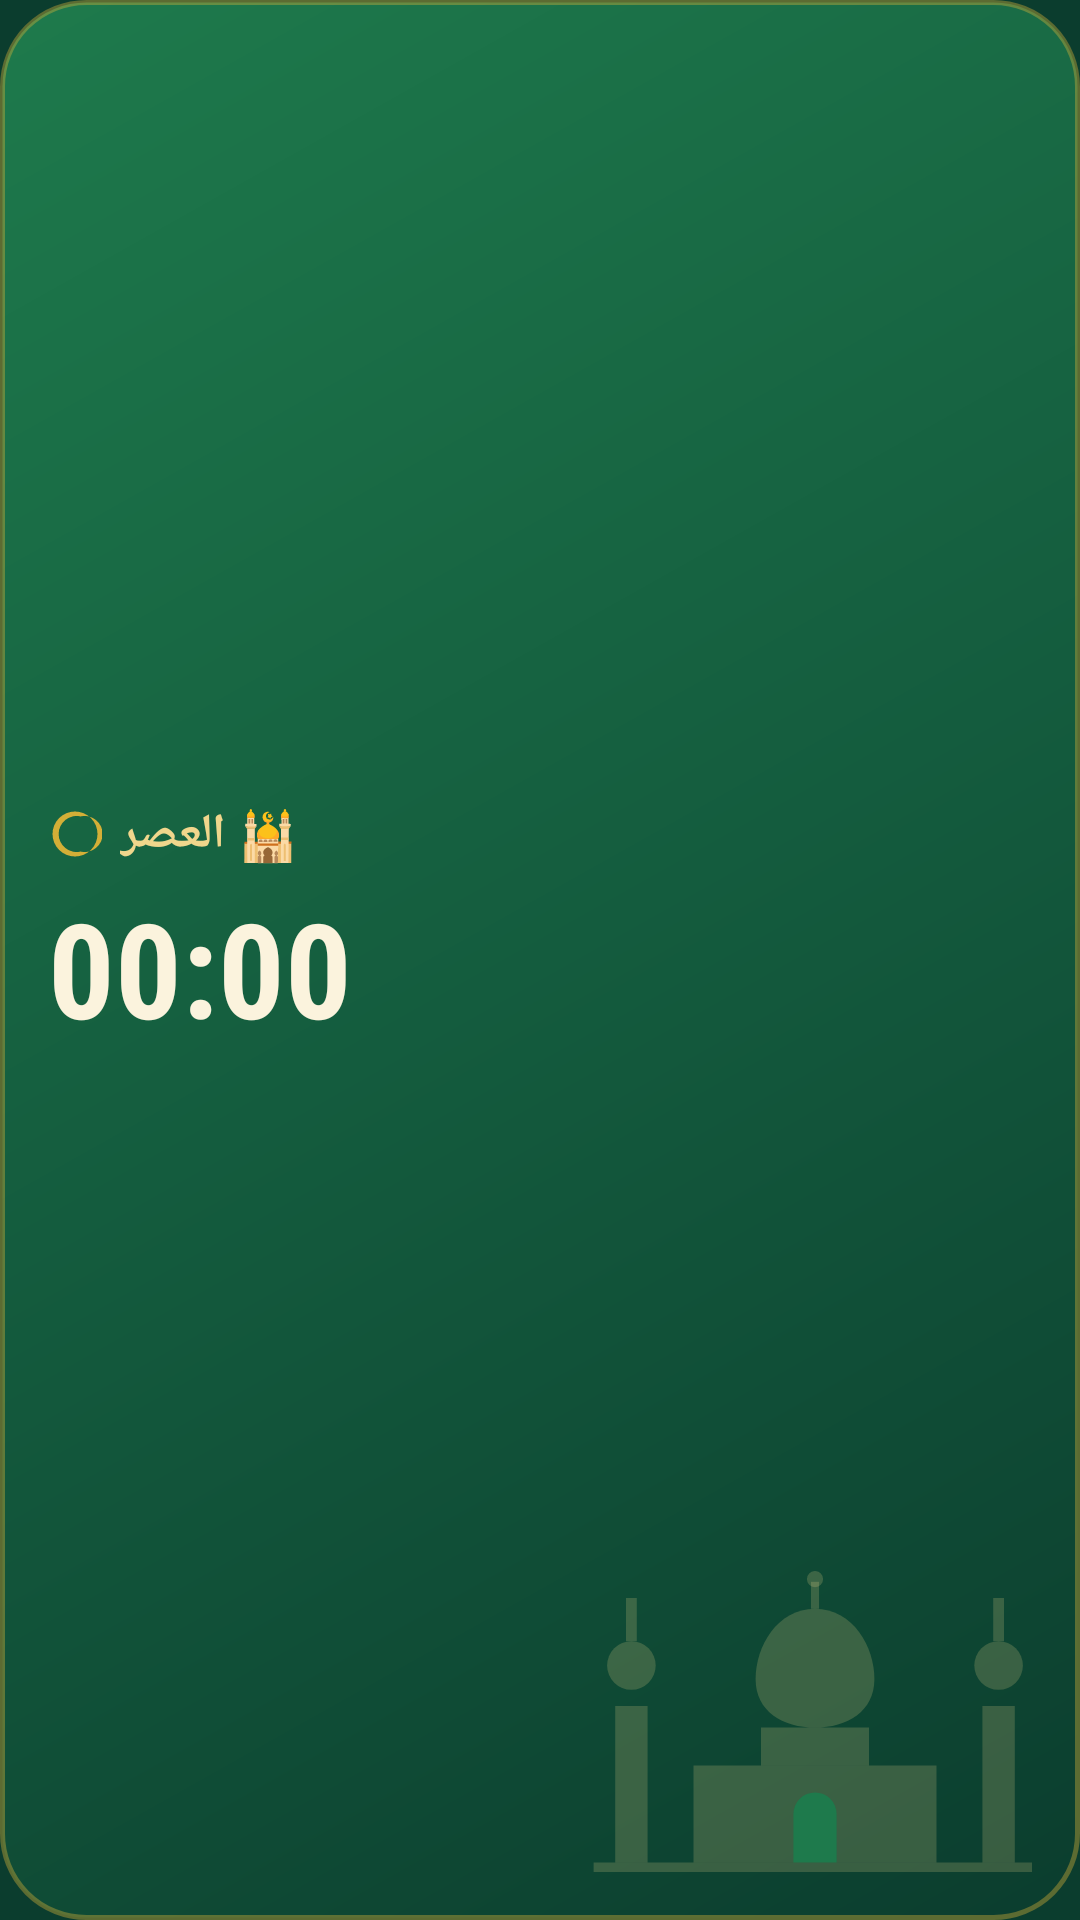

Screen size 1080×1920. Icon name, then its center in pixels as point (x, y):
crescent: point (77, 834)
